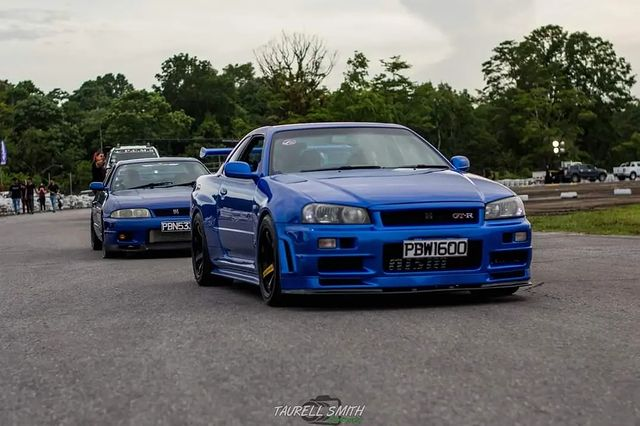License-Plate: (402, 240, 466, 256)
